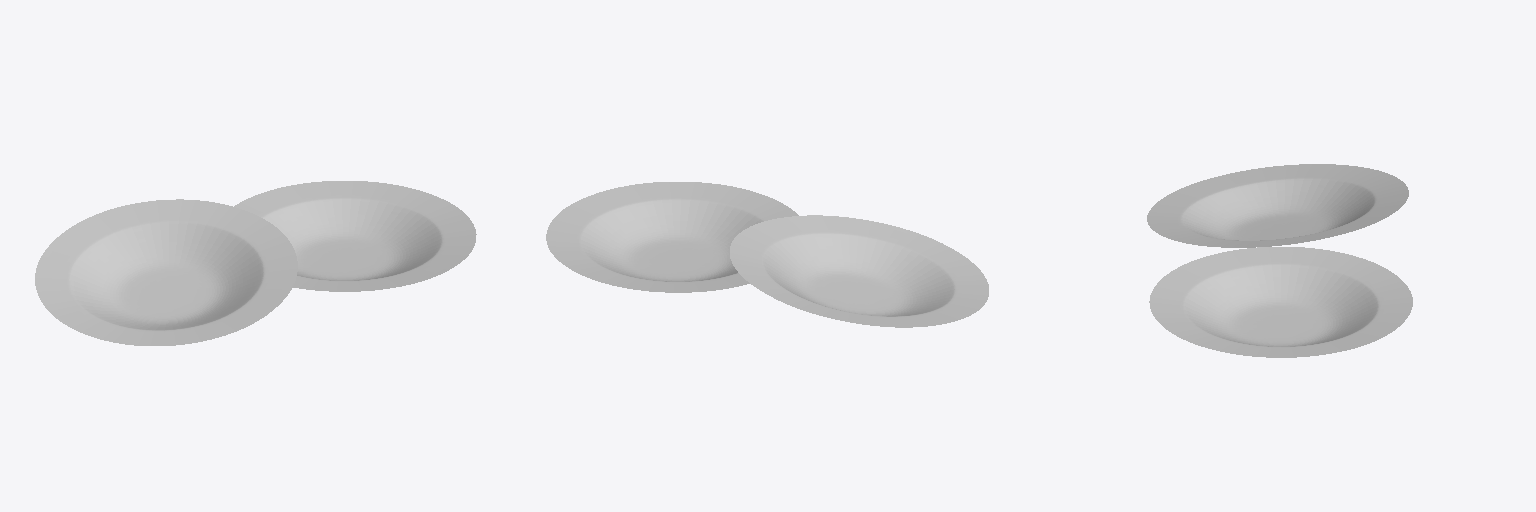
File: prato_blender.obj
3 renders of one model, left to right at view 1: azimuth 30°, elevation 25°; view 2: azimuth 150°, elevation 25°; view 3: azimuth 270°, elevation 25°, orthographic.
Parts seen in each view (by area): view 1: Disc, Disc_1; view 2: Disc, Disc_1; view 3: Disc_1, Disc.
Part boxes in pixels (x1,y1,x2,y2): Disc: (35, 199, 297, 345); Disc_1: (234, 181, 476, 291); Disc: (730, 215, 988, 327); Disc_1: (546, 182, 798, 292); Disc_1: (1149, 247, 1412, 357); Disc: (1147, 164, 1408, 247).
Bounding box in the file's own units: 348 × 41.41 × 197.